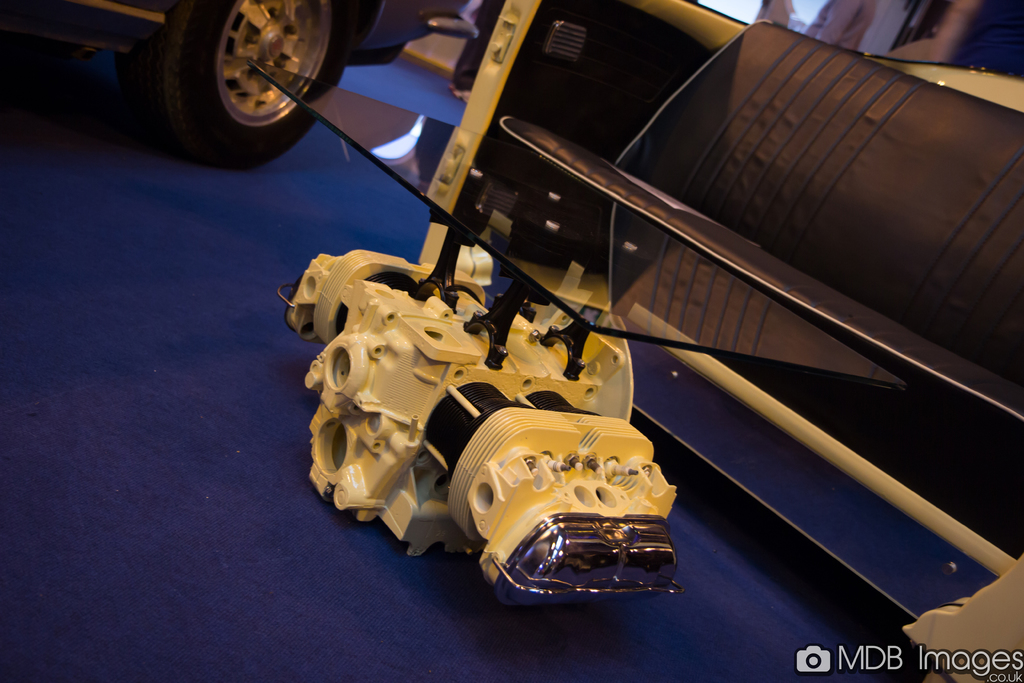Car: (30, 0, 441, 165)
